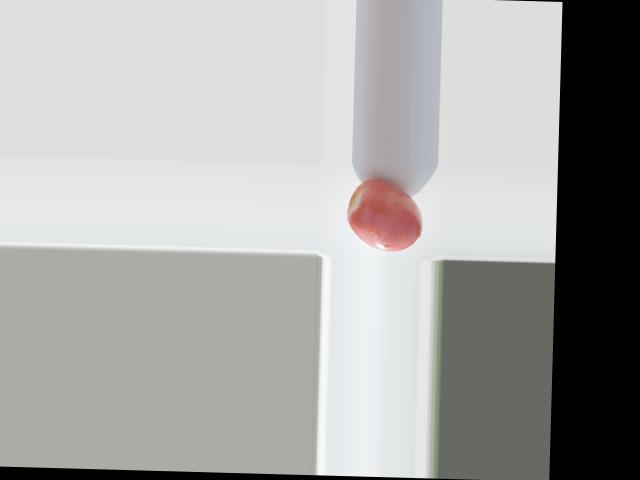tomato: (346, 178, 424, 252)
